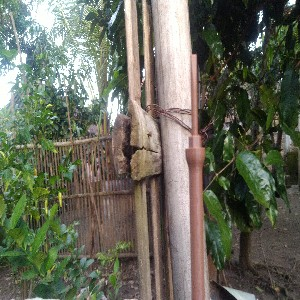obeng: (185, 54, 206, 300)
